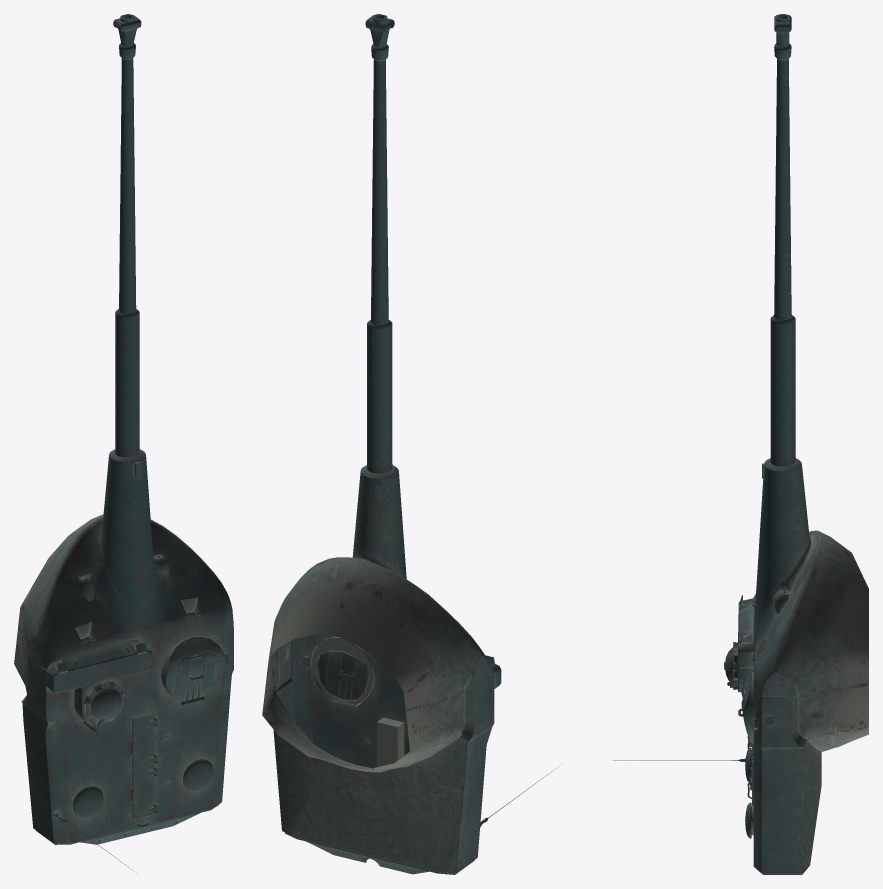
File: Gun_01.glb
The picture shows the model from 3 angles, left to right: view 1: azimuth 30°, elevation 25°; view 2: azimuth 150°, elevation 25°; view 3: azimuth 270°, elevation 25°; orthographic projection. The views are drawn at different scales.
Visible parts, largest first — view 1: set_0_group_0; view 2: set_0_group_0; view 3: set_0_group_0.
Boxes of the visible parts, <box> form: set_0_group_0: <box>14,14,233,874</box>; set_0_group_0: <box>262,14,561,874</box>; set_0_group_0: <box>613,14,868,874</box>.
Size of the model in its own units: 2.5 by 10.08 by 3.06.
1 material, 1 textured.
